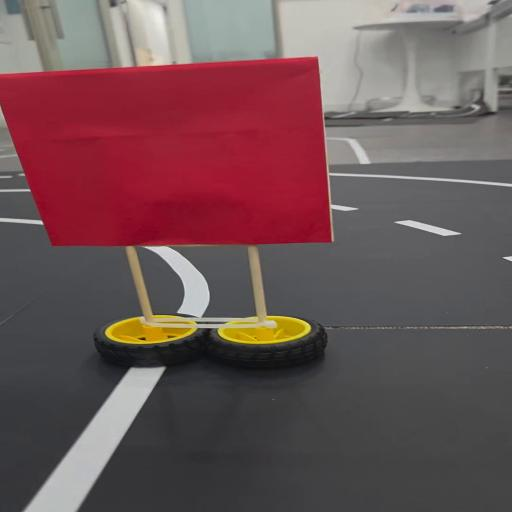Sign_A: (6, 59, 336, 375)
